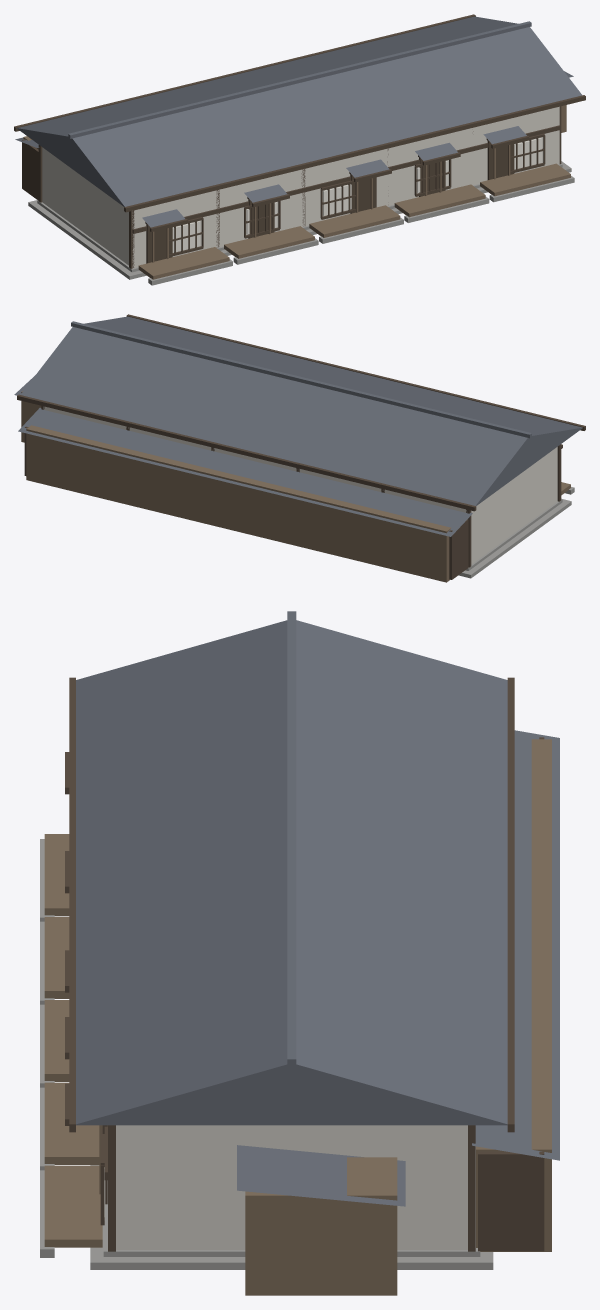
File: family_nagaya_05bay.glb
3 renders of one model, top to bottom at view 1: azimuth 30°, elevation 25°; view 2: azimuth 150°, elevation 25°; view 3: azimuth 270°, elevation 25°, orthographic. The views are drawn at different scales.
Parts seen in each view (by area): view 1: family_nagaya_05bay; view 2: family_nagaya_05bay; view 3: family_nagaya_05bay.
Part boxes in pixels (x1,y1,x2,y2): family_nagaya_05bay: (14, 14, 585, 285); family_nagaya_05bay: (14, 314, 585, 582); family_nagaya_05bay: (40, 611, 559, 1295).
Size of the model in its own units: 23.01 by 4.95 by 10.61.
